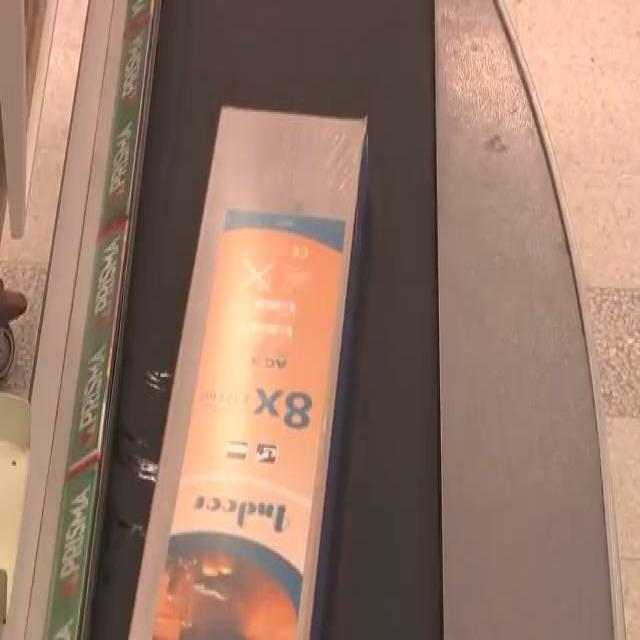utility-box: (113, 51, 411, 640)
